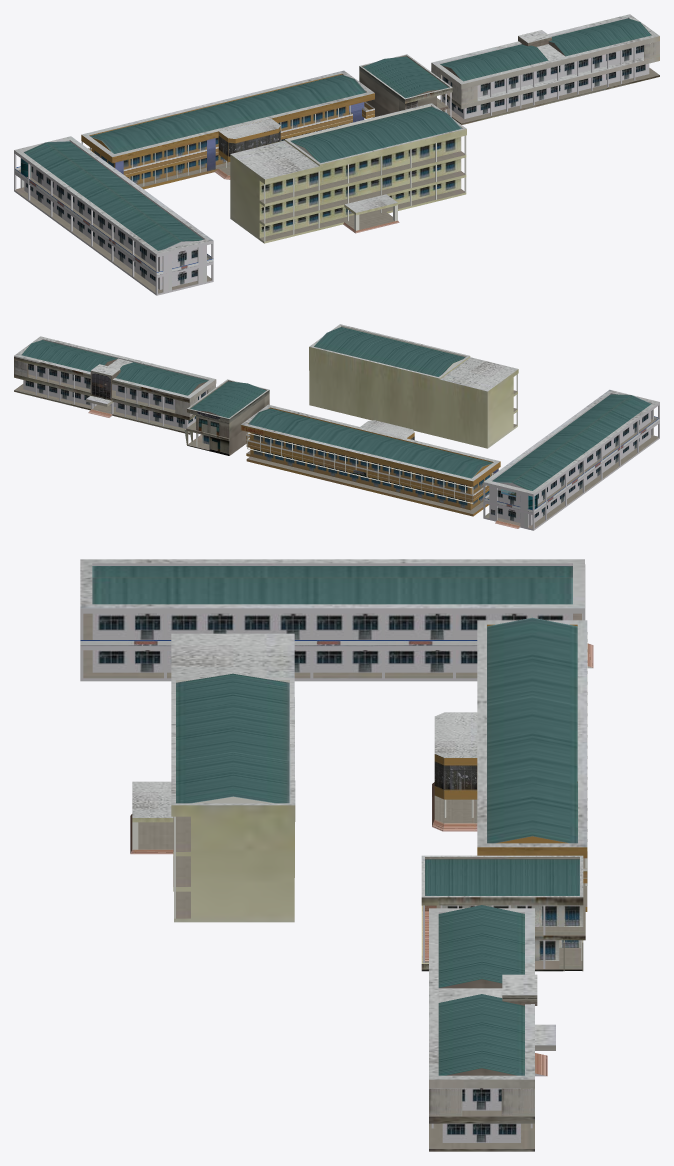
3 views of the same model, one above another, from view 1: azimuth 30°, elevation 25°; view 2: azimuth 150°, elevation 25°; view 3: azimuth 270°, elevation 25° (orthographic). The views are drawn at different scales.
Parts seen in each view (by area): view 1: 5c77aef6bdd69e54386ebe98.001; view 2: 5c77aef6bdd69e54386ebe98.001; view 3: 5c77aef6bdd69e54386ebe98.001.
Part boxes in pixels (x1,y1,x2,y2): 5c77aef6bdd69e54386ebe98.001: (14, 14, 659, 295); 5c77aef6bdd69e54386ebe98.001: (14, 324, 659, 530); 5c77aef6bdd69e54386ebe98.001: (80, 559, 593, 1151).
Size of the model in its own units: 127 by 14.04 by 52.87.
1 material, 1 textured.
